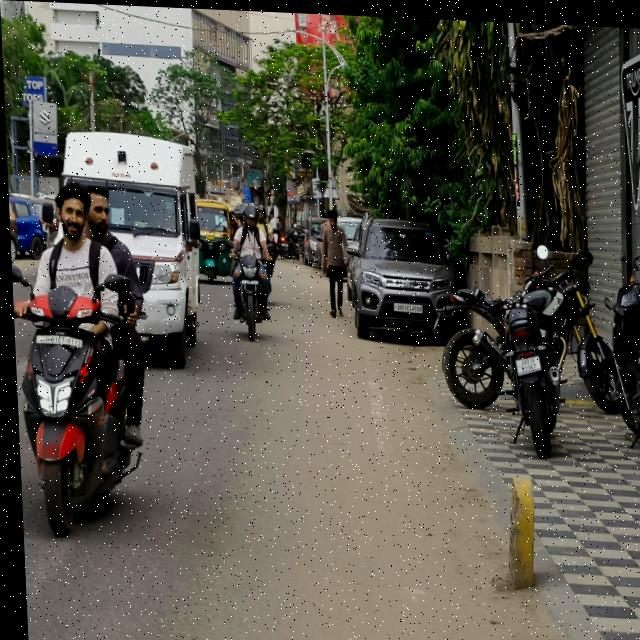bike: (9, 261, 146, 539), (433, 260, 614, 412), (492, 279, 567, 452), (608, 244, 640, 460), (224, 244, 269, 341)
car: (346, 209, 459, 348), (10, 193, 43, 263)
